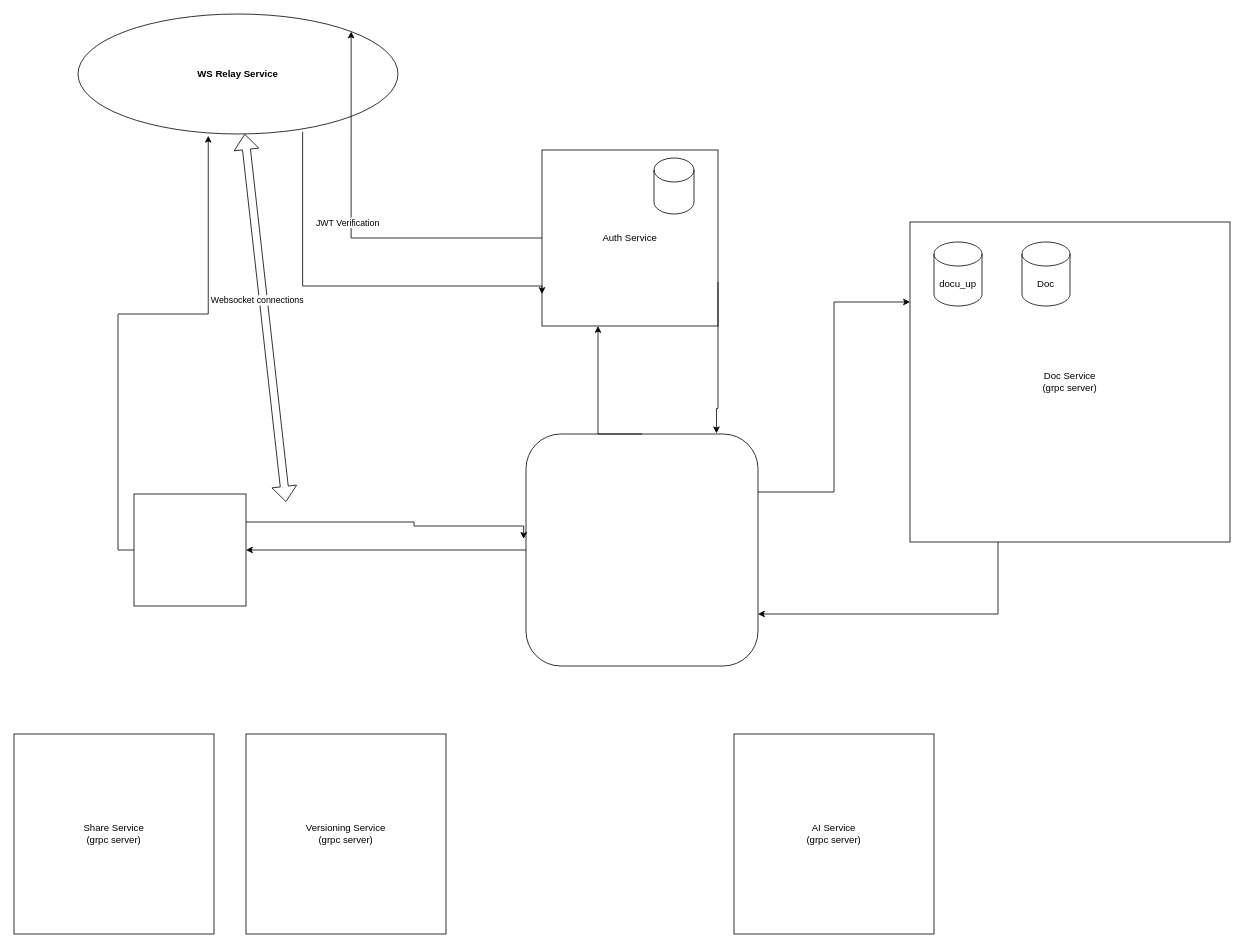
The diagram is 1244 pixels wide and 948 high, and some of its shapes have lost their labels. Here are the shapes that lost their labels. From the top down, the centre of each, then its label:
At point (673, 185): "Auth".
At point (189, 549): "Client (next.js)".
At point (641, 549): "Gateway (REST+ websockets)".
